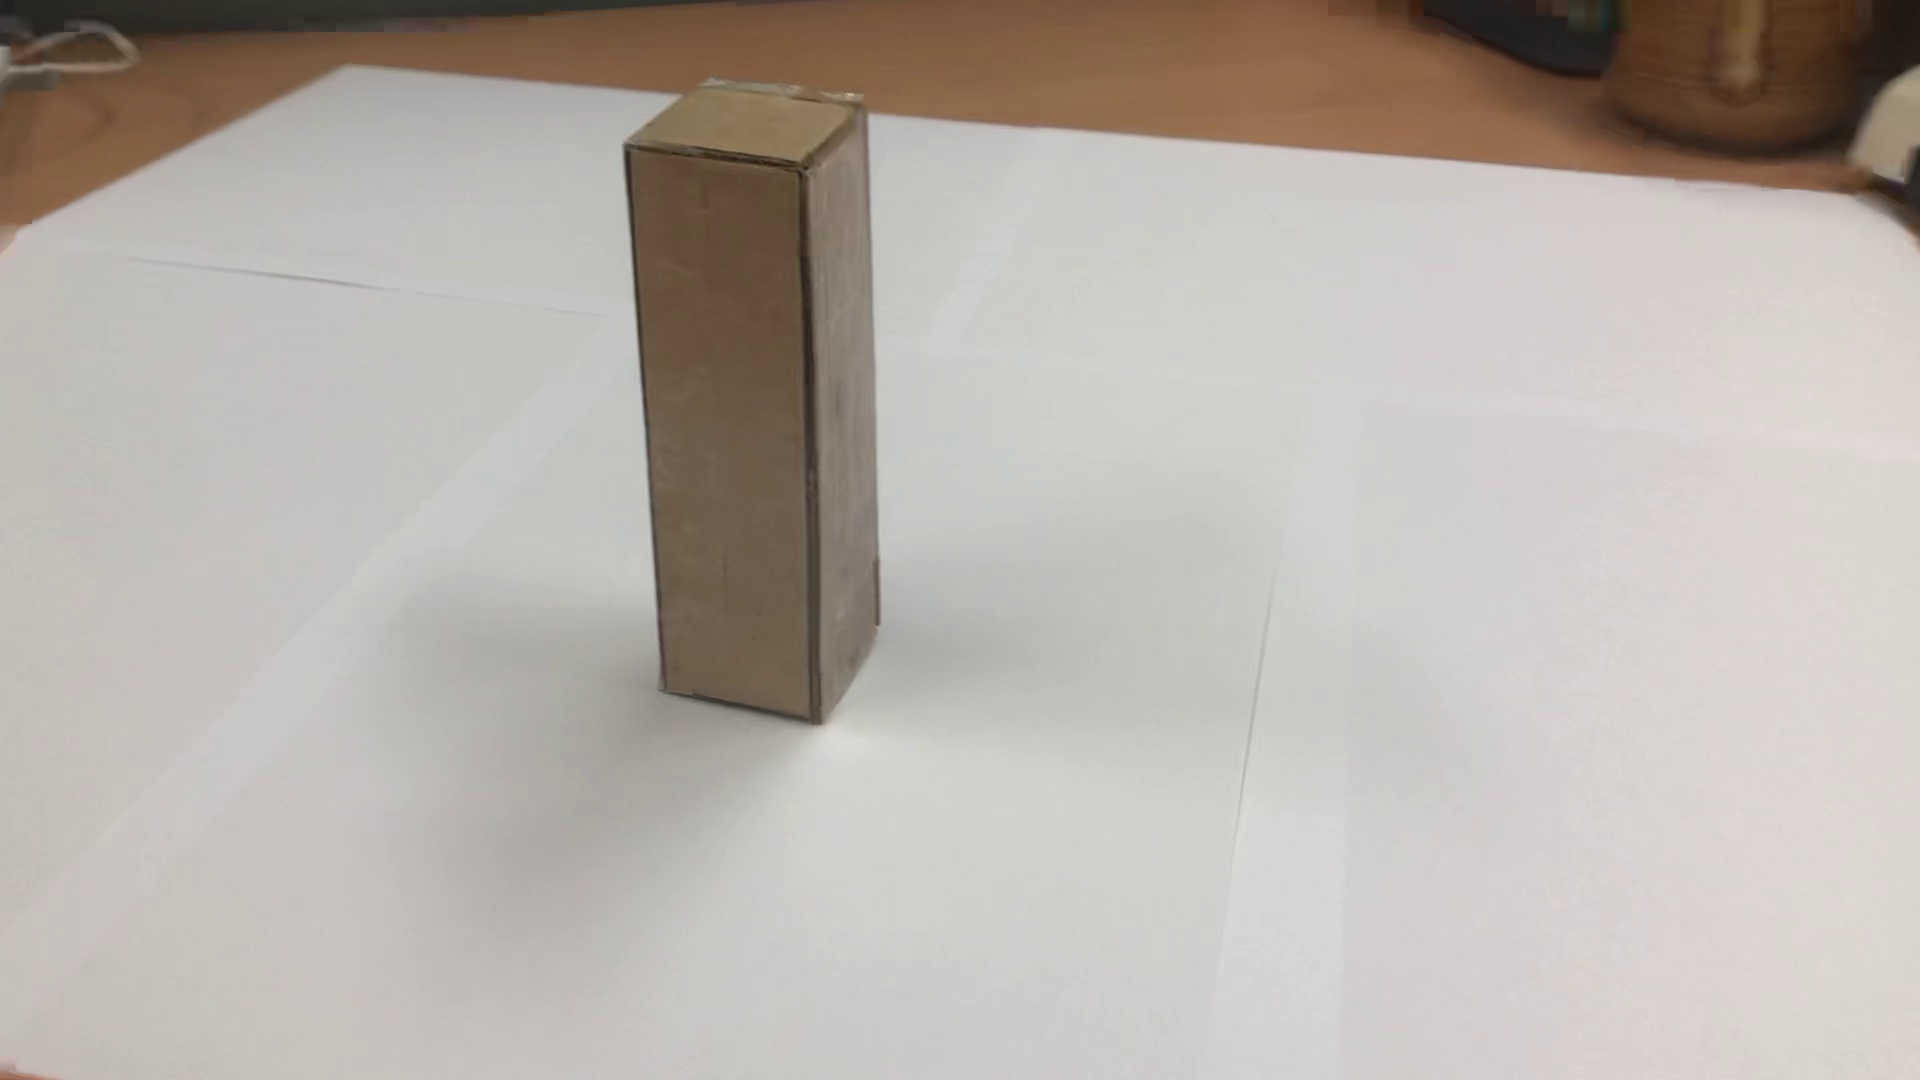box: (605, 65, 922, 756)
